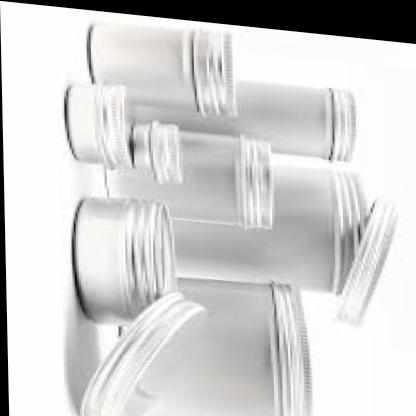Metal: (0, 13, 408, 416)
